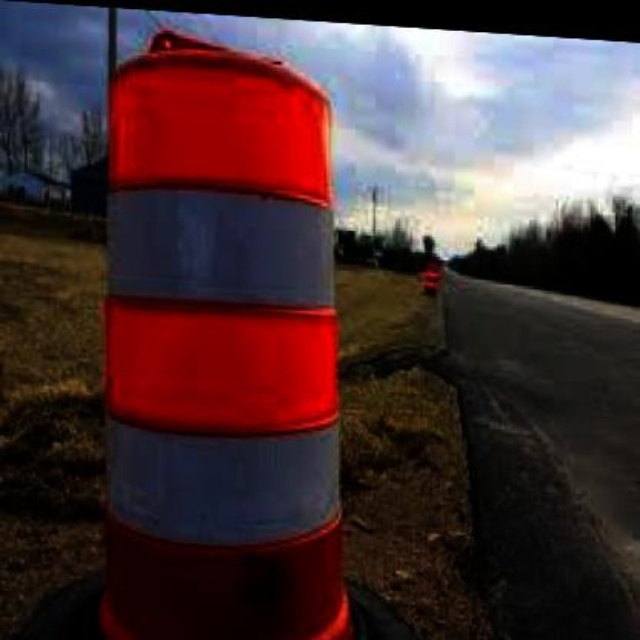obstacle: (102, 38, 358, 640)
